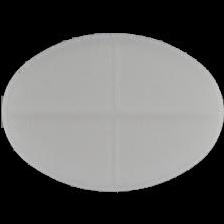59762-4440: (0, 0, 224, 224)
